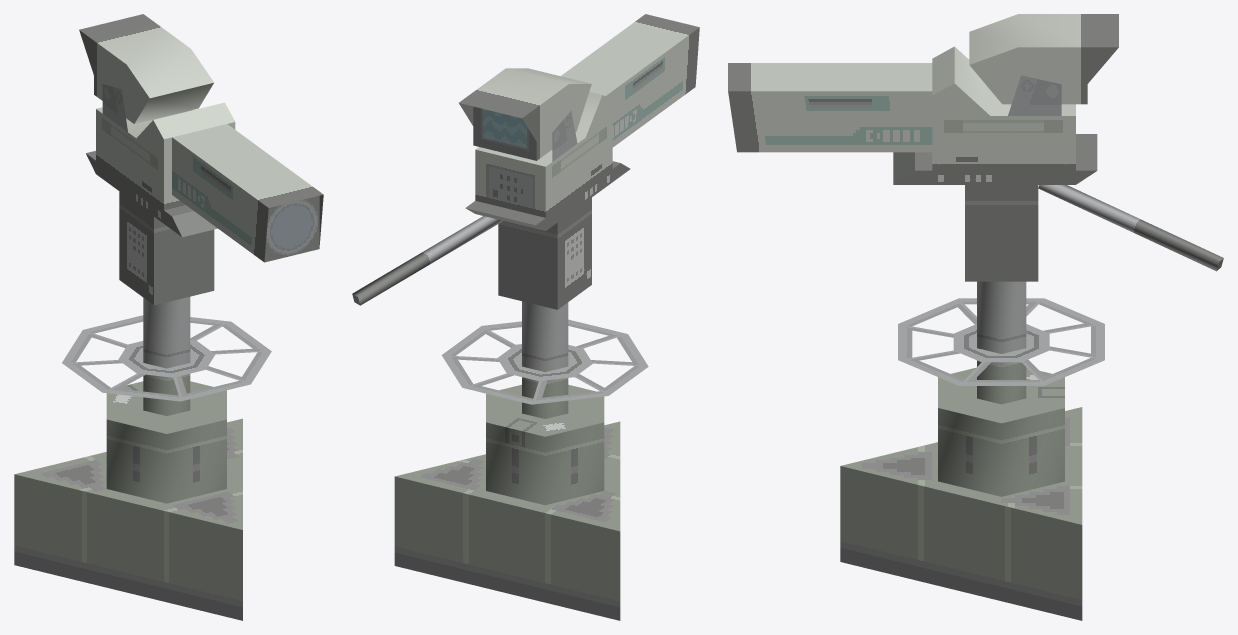
File: 03d8_TV_Camera.glb
The picture shows the model from 3 angles, left to right: view 1: azimuth 30°, elevation 25°; view 2: azimuth 150°, elevation 25°; view 3: azimuth 270°, elevation 25°; orthographic projection. The views are drawn at different scales.
Visible parts, largest first — view 1: part_0; view 2: part_0; view 3: part_0.
Boxes of the visible parts, x1,y1,x2,y2 form: part_0: (14, 14, 323, 620); part_0: (352, 14, 699, 620); part_0: (728, 14, 1223, 620).
Bounding box in the file's own units: 0.7545 × 1.58 × 1.34.
1 material, 1 textured.
